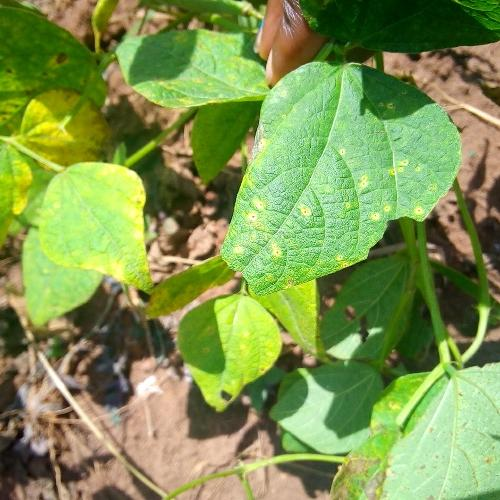hawar: (206, 132, 439, 298)
